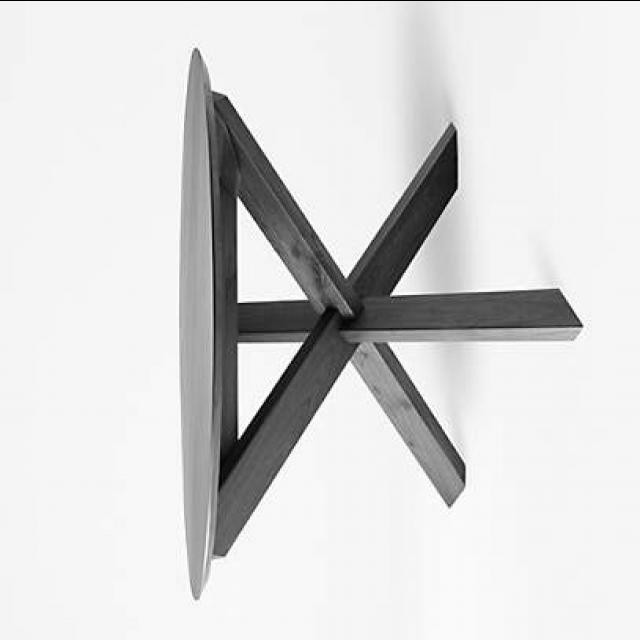table: (181, 47, 583, 600)
